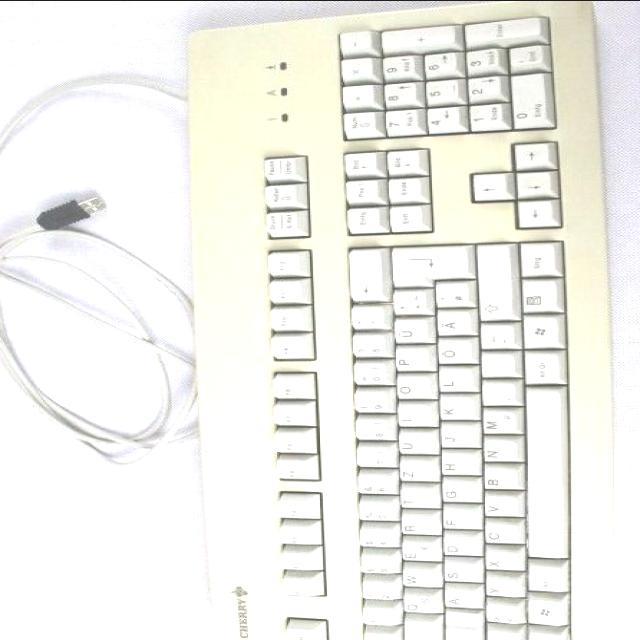0: (349, 361, 389, 386)
1: (359, 604, 397, 627)
2: (358, 580, 396, 601)
3: (358, 550, 396, 575)
4: (356, 527, 394, 549)
5: (355, 499, 395, 522)
6: (354, 470, 396, 495)
7: (352, 443, 394, 468)
8: (350, 417, 392, 442)
9: (349, 390, 391, 414)
a: (441, 586, 479, 610)
accent: (348, 307, 386, 331)
ae: (432, 312, 472, 337)
alt-left: (524, 565, 562, 595)
altgr-right: (520, 352, 560, 386)
b: (480, 467, 518, 491)
c: (481, 522, 519, 545)
caret: (361, 634, 395, 640)
comma: (476, 382, 518, 407)
d: (440, 534, 478, 557)
del: (343, 249, 383, 303)
e: (398, 540, 436, 562)
enter: (385, 247, 469, 288)
f: (440, 506, 478, 530)
g: (438, 480, 476, 504)
h: (438, 452, 476, 476)
hash: (431, 283, 471, 308)
i: (394, 404, 432, 427)
j: (437, 424, 475, 448)
k: (435, 397, 473, 421)
keyboard: (179, 0, 623, 640)
l: (434, 369, 474, 393)
less: (482, 603, 520, 626)
m: (478, 410, 520, 435)
minus: (476, 326, 514, 351)
n: (480, 440, 518, 463)
o: (392, 376, 430, 401)
oe: (434, 339, 474, 365)
p: (392, 348, 430, 372)
plus: (390, 292, 428, 317)
point: (477, 354, 515, 378)
q: (400, 592, 438, 615)
r: (396, 514, 434, 536)
s: (440, 560, 478, 584)
shift-left: (484, 630, 520, 640)
shift-lock: (442, 613, 478, 640)
shift-right: (474, 246, 514, 322)
space: (521, 390, 564, 560)
ss: (348, 335, 388, 359)
strg-left: (524, 632, 564, 640)
strg-right: (515, 243, 557, 279)
t: (396, 487, 434, 508)
tab: (401, 621, 437, 640)
u: (395, 432, 433, 455)
ue: (389, 320, 429, 344)
v: (480, 494, 518, 517)
w: (399, 568, 435, 589)
x: (481, 548, 519, 572)
y: (482, 576, 520, 599)
z: (396, 460, 434, 483)
